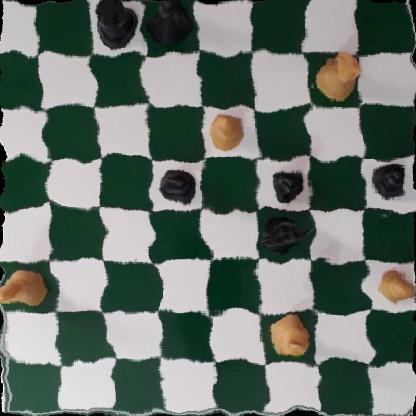black-king: (146, 0, 196, 47)
black-knight: (260, 213, 311, 252)
black-pawn: (370, 157, 411, 201), (158, 168, 199, 206), (271, 161, 308, 202)
black-rook: (93, 0, 144, 49)
white-bishop: (0, 267, 46, 311)
white-king: (263, 310, 310, 361)
white-pawn: (207, 111, 246, 151), (379, 265, 416, 304)
white-rook: (313, 49, 366, 99)
